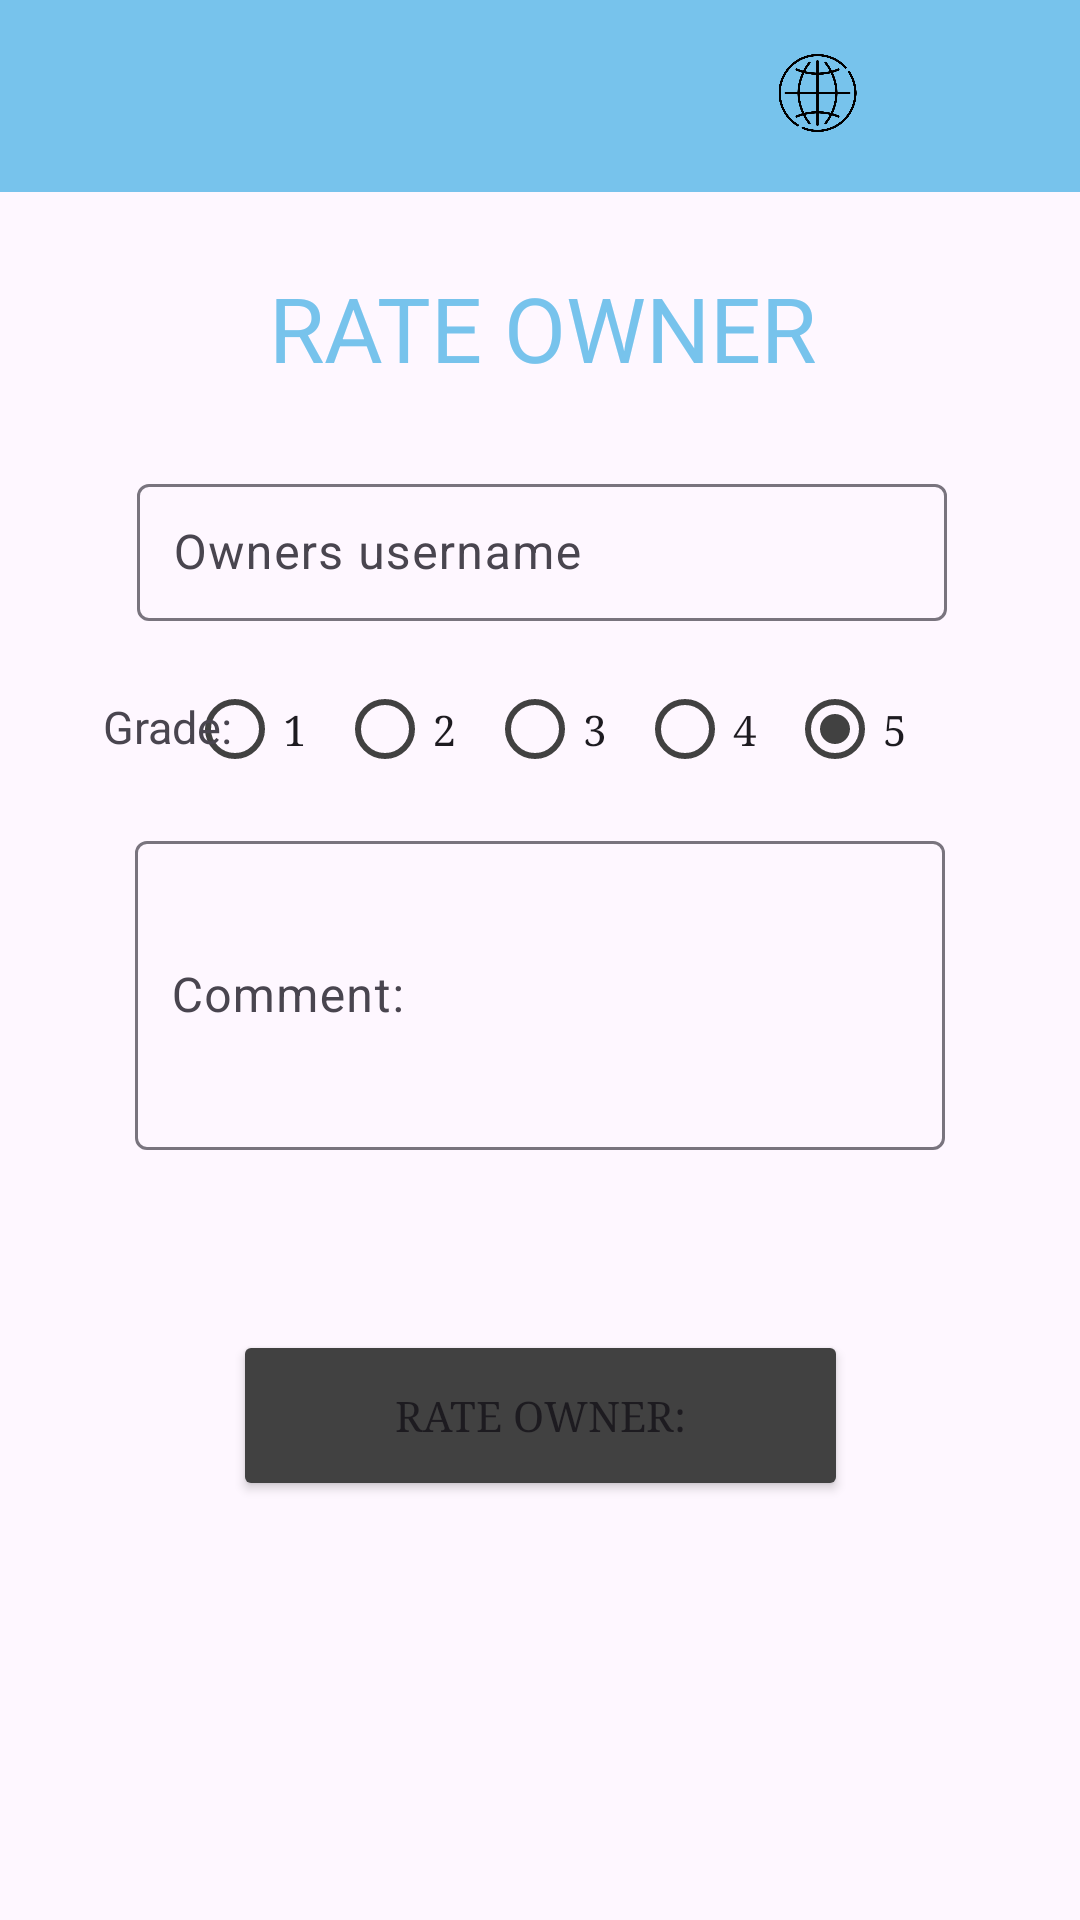

Point at icon controls on the screen. Image size 1080*1920, points as point (x, y).
Language Button: point (818, 93)
